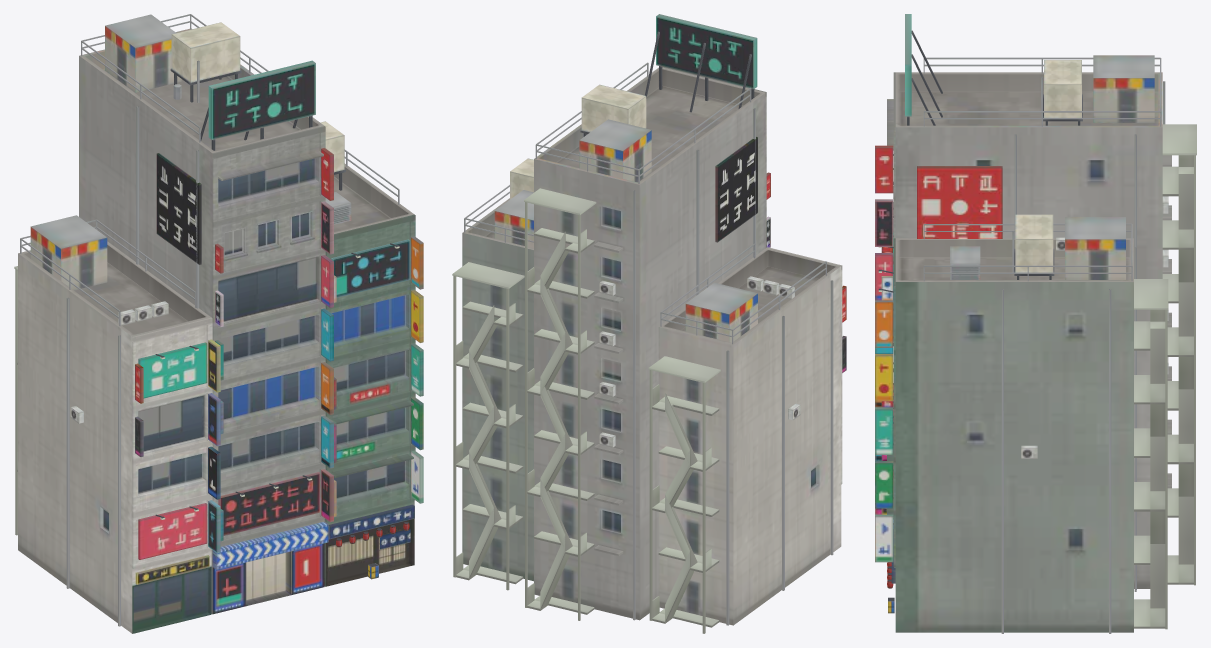
Rendered from tokyo_zakkyo_d.glb.
3 views of the same model, side by side, from view 1: azimuth 30°, elevation 25°; view 2: azimuth 150°, elevation 25°; view 3: azimuth 270°, elevation 25° (orthographic). The views are drawn at different scales.
Parts seen in each view (by area): view 1: tokyo_zakkyo_d; view 2: tokyo_zakkyo_d; view 3: tokyo_zakkyo_d.
Boxes of the visible parts, left/top/right/bottom form: tokyo_zakkyo_d: left=14, top=14, right=423, bottom=633; tokyo_zakkyo_d: left=452, top=14, right=846, bottom=633; tokyo_zakkyo_d: left=875, top=14, right=1196, bottom=633.
Size of the model in its own units: 17.74 by 30.2 by 16.87.
1 material, 1 textured.
